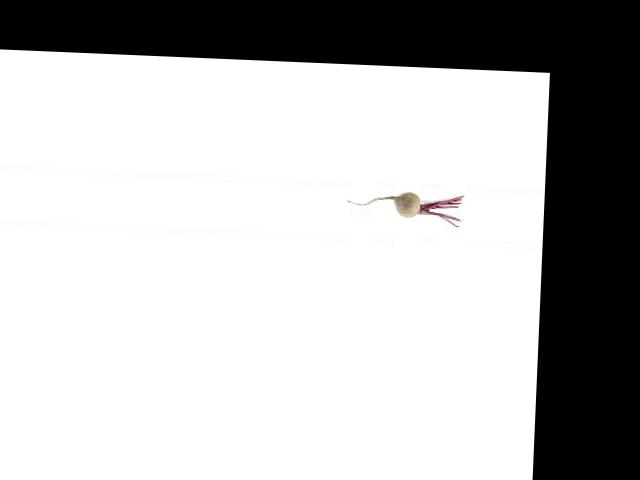beet: (344, 189, 463, 226)
